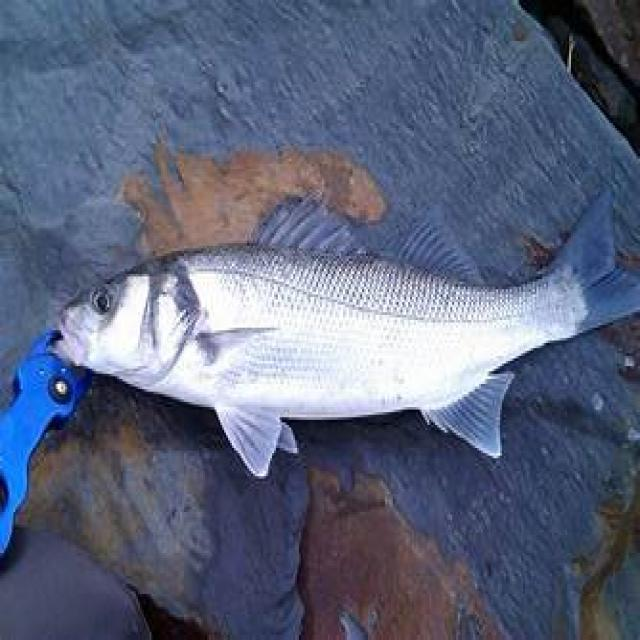Healthy Fish: (38, 213, 640, 475)
